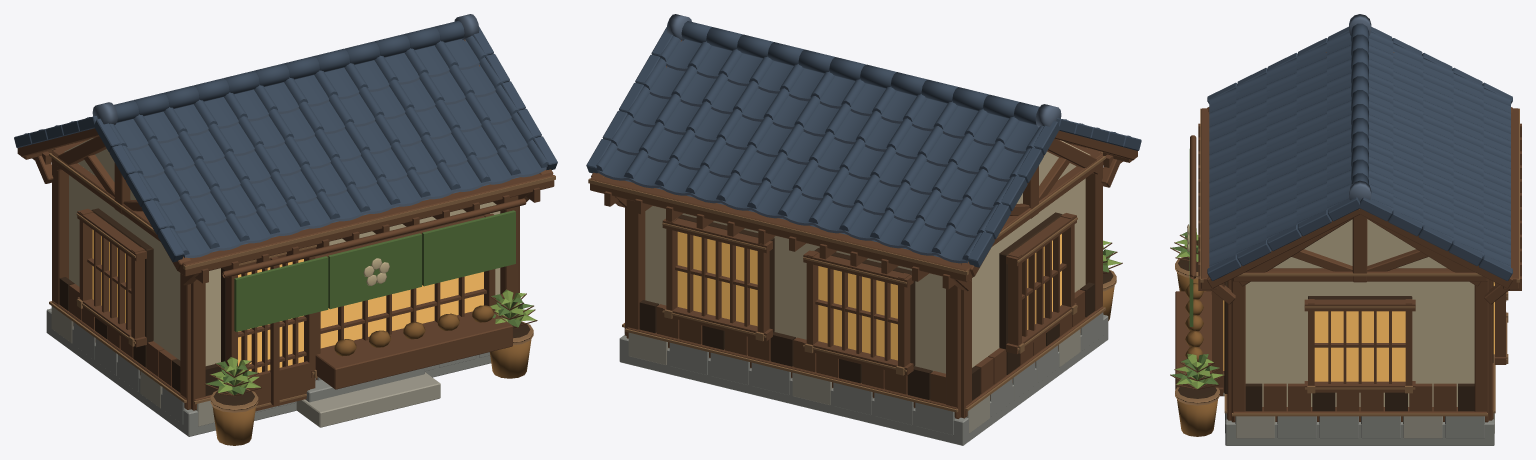
3 views of the same model, side by side, from view 1: azimuth 30°, elevation 25°; view 2: azimuth 150°, elevation 25°; view 3: azimuth 270°, elevation 25° (orthographic). The views are drawn at different scales.
Visible parts, largest first — view 1: compact_shop_1_geometry, compact_shop_1_geometry ceramic; view 2: compact_shop_1_geometry, compact_shop_1_geometry ceramic; view 3: compact_shop_1_geometry, compact_shop_1_geometry ceramic.
Boxes of the visible parts, x1,y1,x2,y2 form: compact_shop_1_geometry: (17,39,555,445); compact_shop_1_geometry ceramic: (14,14,557,262); compact_shop_1_geometry: (588,40,1137,445); compact_shop_1_geometry ceramic: (586,14,1141,267); compact_shop_1_geometry: (1170,52,1521,445); compact_shop_1_geometry ceramic: (1207,14,1512,280).
Size of the model in its own units: 0.99 by 0.7008 by 0.8335.
